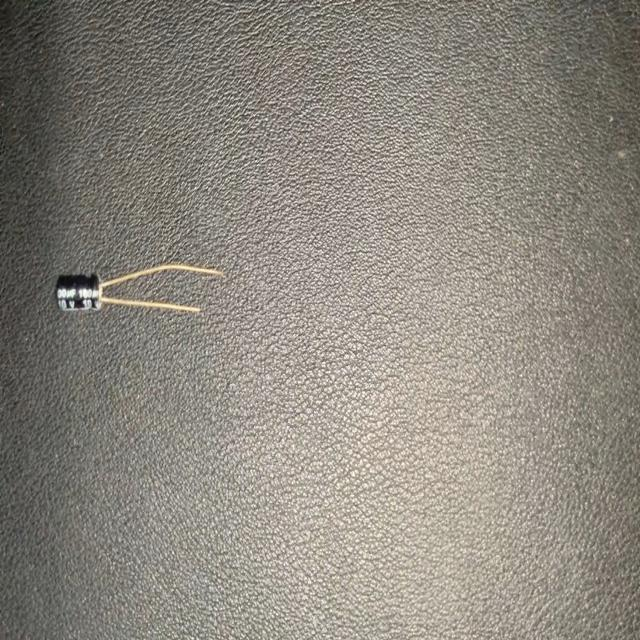capacitor: (52, 261, 230, 321)
